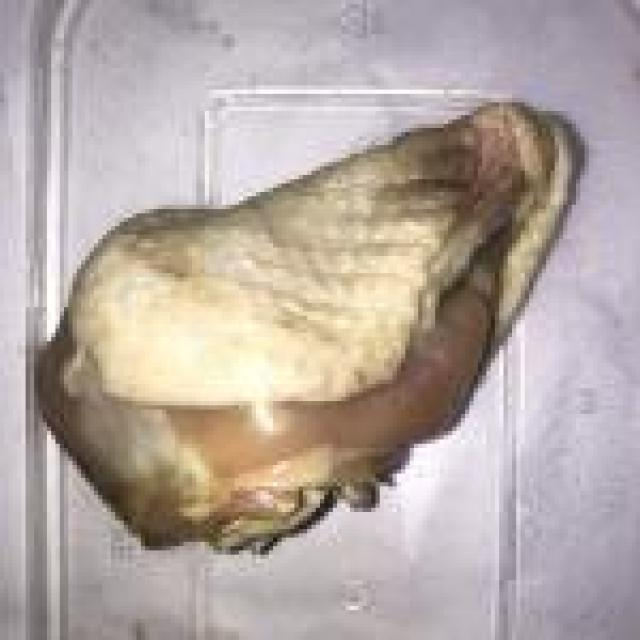breast: (17, 90, 580, 560)
